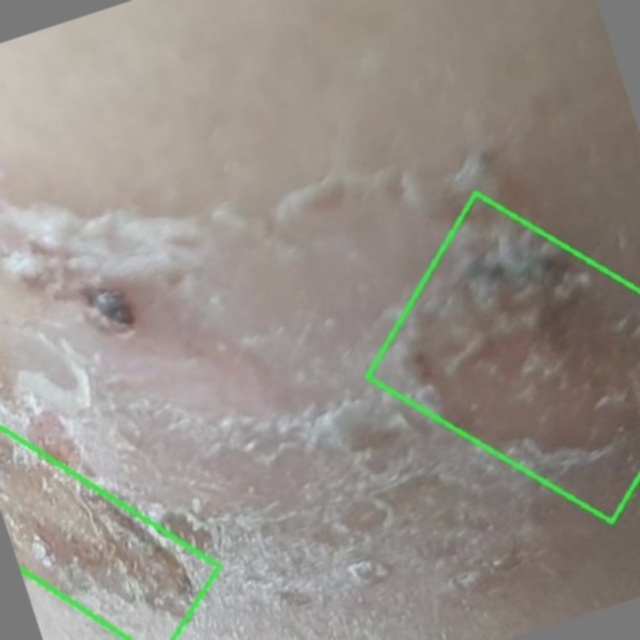Contact Dermatitis: (367, 193, 639, 522), (0, 356, 239, 639)
